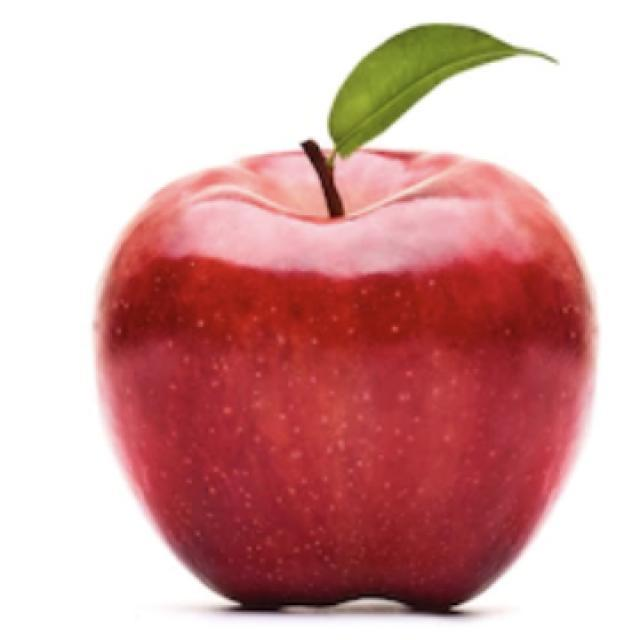Fresh Apple: (90, 123, 603, 612)
